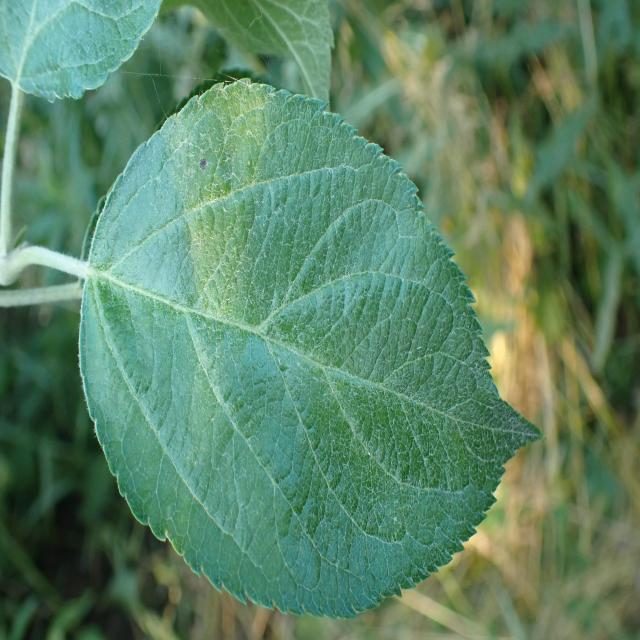healthy: (78, 78, 546, 620), (0, 0, 164, 102), (186, 0, 334, 111)
